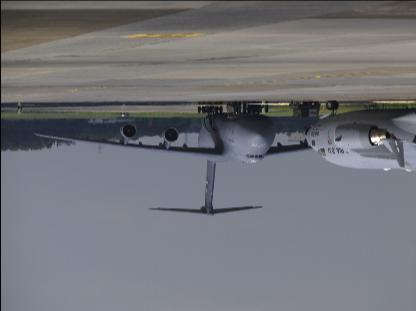C17: (32, 104, 312, 216)
C2: (305, 100, 415, 172)
